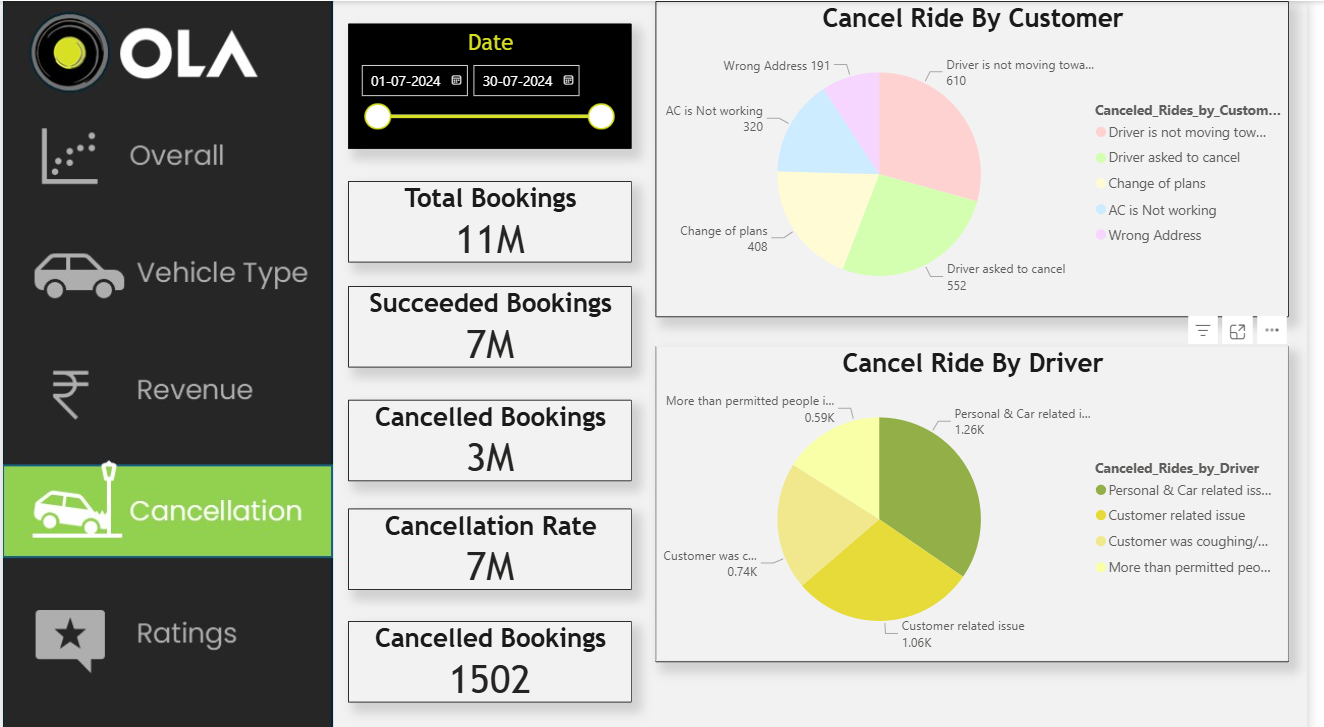

What the dashboard file says about the page in this screenshot:
{"tool":"powerbi","page":{"name":"Cancellation","canvas":[1280,720],"ordinal":3},"visuals":[{"type":"actionButton","box":[0,216,324,94],"z":0},{"type":"actionButton","box":[0,98,324,94],"z":1000},{"type":"actionButton","box":[0,338,324,94],"z":2000},{"type":"actionButton","box":[0,578,324,94],"z":3000},{"type":"pieChart","title":"Cancel Ride By Customer","fields":{"Category":["July.Canceled_Rides_by_Customer"],"Y":["CountNonNull(July.Canceled_Rides_by_Customer)"]},"box":[640,0,621.7,310],"z":3001},{"type":"pieChart","title":"Cancel Ride By Driver","fields":{"Category":["July.Canceled_Rides_by_Driver"],"Y":["CountNonNull(July.Canceled_Rides_by_Driver)"]},"box":[640,338.3,621.7,310],"z":3002},{"type":"slicer","title":"Date","fields":{"Values":["July.Date"]},"box":[338.3,21.7,278.3,123.3],"z":3003},{"type":"card","title":"Total Bookings","fields":{"Values":["Sum(July.Booking_Value)"]},"box":[338.3,176.7,278.3,80],"z":3004},{"type":"card","title":"Succeeded Bookings","fields":{"Values":["Sum(July.Booking_Value)"]},"box":[338.3,280,278.3,80],"z":3005},{"type":"card","title":"Cancelled Bookings","fields":{"Values":["Sum(July.Booking_Value)"]},"box":[338.3,391.7,278.3,80],"z":3006},{"type":"card","title":"Cancellation Rate","fields":{"Values":["Sum(July.Booking_Value)"]},"box":[338.3,498.3,278.3,80],"z":3007},{"type":"card","title":"Cancelled Bookings","fields":{"Values":["July.CanceledBookings"]},"box":[338.3,608.3,278.3,80],"z":3008}]}

Visuals, with their boxes on the page's 1280x720 design canvas (x1, y1, x2, y2). These are canvas units, not pixel positions in the 1324x727 screenshot, which may show the page scaled, cropped or inside an application window:
actionButton: bbox=(0, 216, 324, 310)
actionButton: bbox=(0, 98, 324, 192)
actionButton: bbox=(0, 338, 324, 432)
actionButton: bbox=(0, 578, 324, 672)
"Cancel Ride By Customer" pieChart: bbox=(640, 0, 1262, 310)
"Cancel Ride By Driver" pieChart: bbox=(640, 338, 1262, 648)
"Date" slicer: bbox=(338, 22, 617, 145)
"Total Bookings" card: bbox=(338, 177, 617, 257)
"Succeeded Bookings" card: bbox=(338, 280, 617, 360)
"Cancelled Bookings" card: bbox=(338, 392, 617, 472)
"Cancellation Rate" card: bbox=(338, 498, 617, 578)
"Cancelled Bookings" card: bbox=(338, 608, 617, 688)
